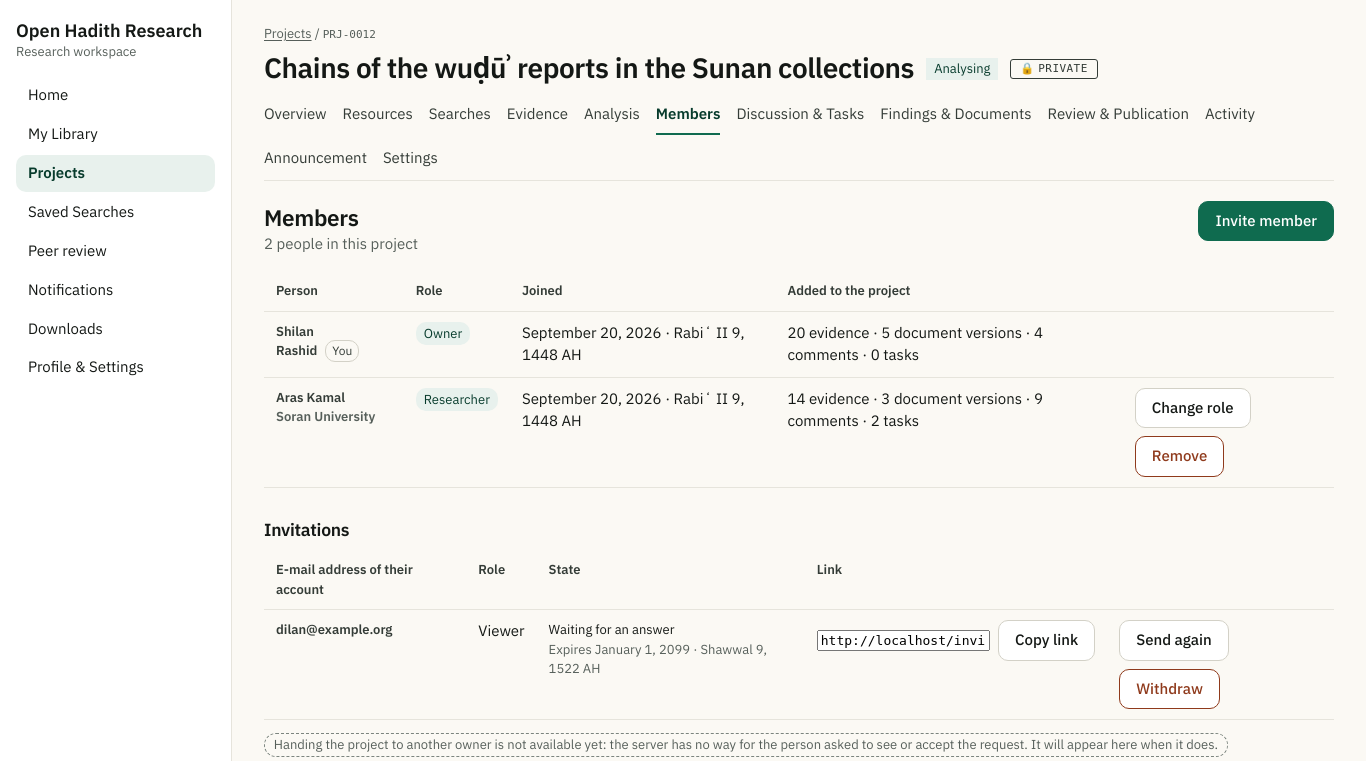
Test: Members (owner) › keeps the people on screen and says so when a refresh fails
This screenshot has width=1366, height=761.
Expected: the text "Aras Kamal" is shown, [276,388,345,407]
Step 1. Click the button with aria-label "Remove Aras Kamal" → (1180, 456), box [1135,436,1224,477]
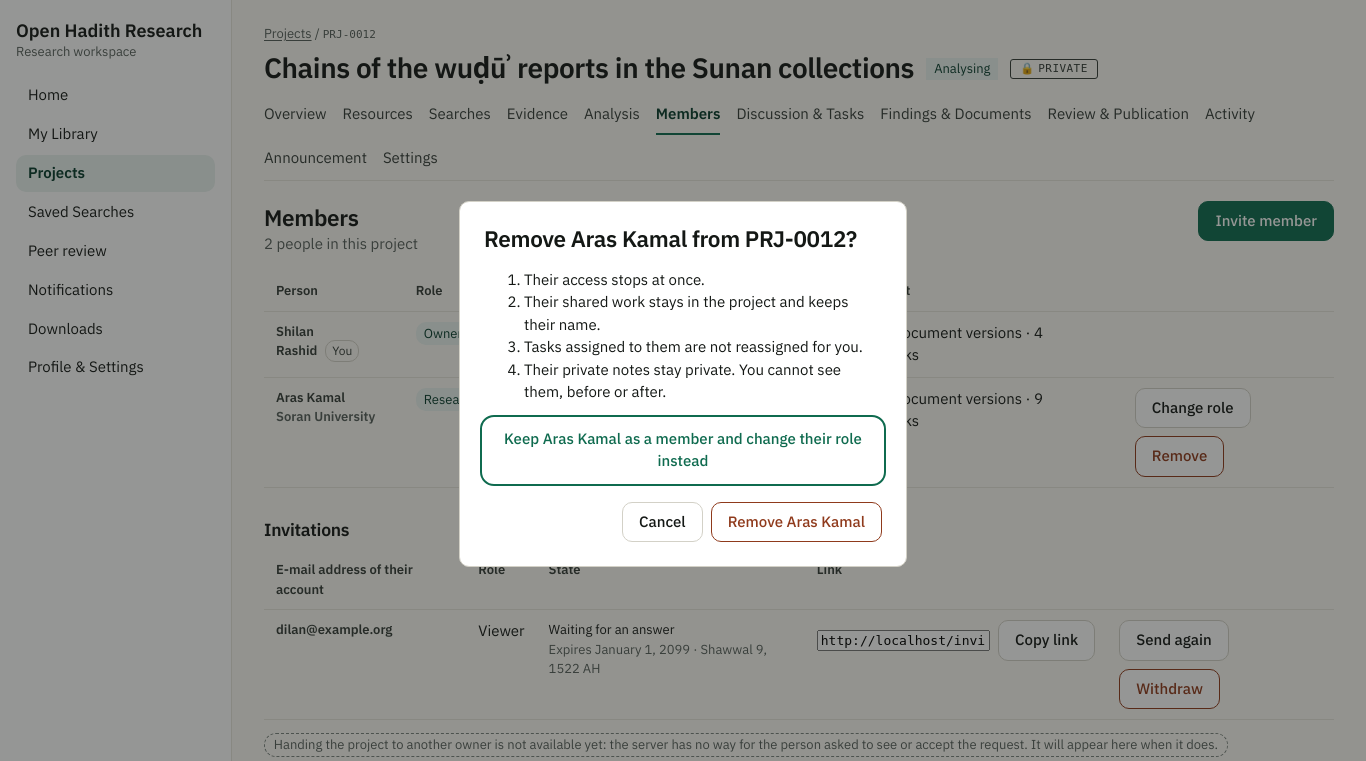
Step 2. Click the button "Remove Aras Kamal" → (796, 522), box [711,502,882,542]
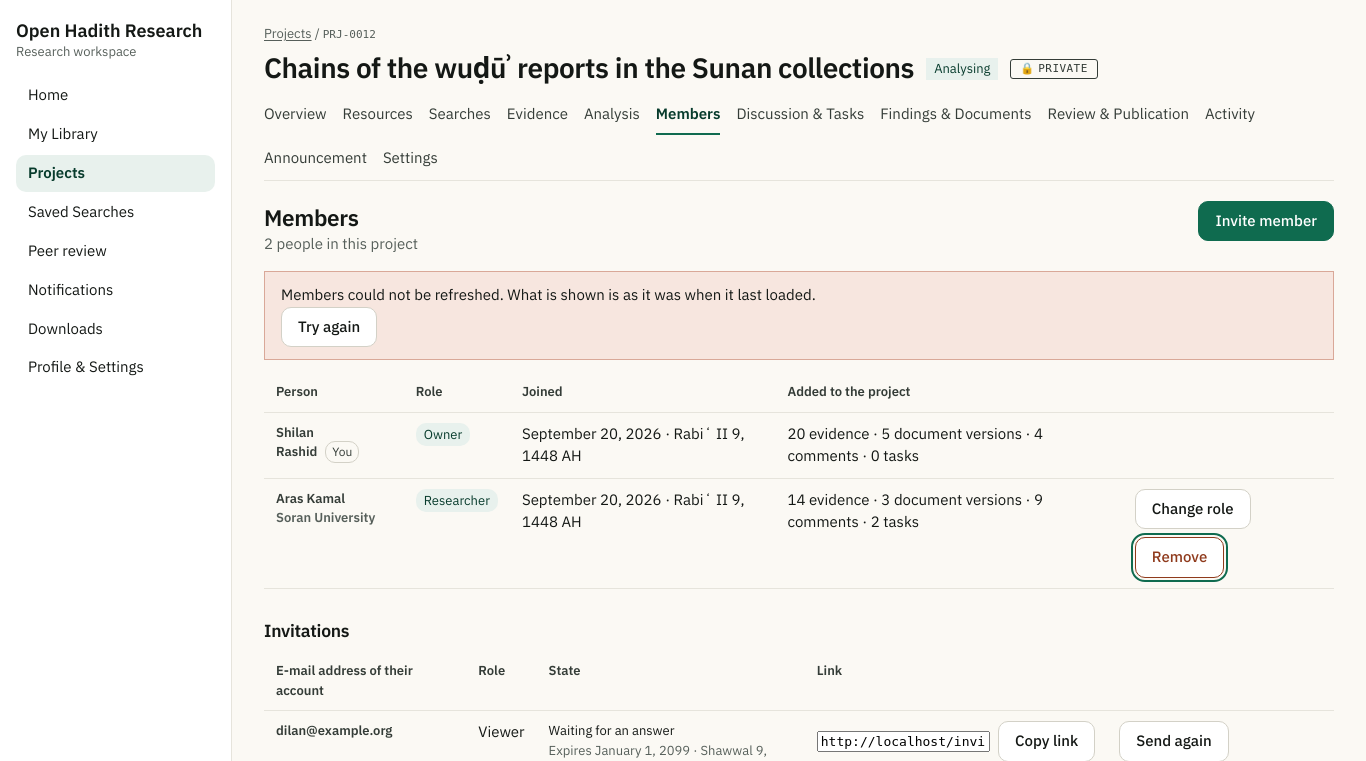
Expected: the text "Aras Kamal" is shown, [276,489,345,508]
Now the text "could not be refreshed" is shown, box [281,284,816,306]
